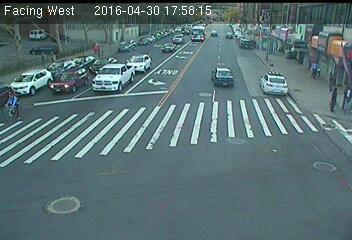neg: (209, 66, 227, 90), (100, 66, 118, 90), (303, 29, 318, 49), (277, 46, 291, 64), (155, 40, 169, 58), (294, 50, 306, 66), (203, 25, 215, 41), (258, 44, 269, 58), (24, 26, 35, 40), (132, 32, 143, 46), (264, 61, 274, 75), (168, 32, 178, 46), (336, 25, 346, 39), (298, 24, 306, 36)
pos: (1, 91, 23, 122), (327, 88, 346, 114), (325, 72, 341, 93), (310, 61, 324, 80), (91, 41, 103, 57), (37, 52, 49, 68), (46, 51, 57, 66)
